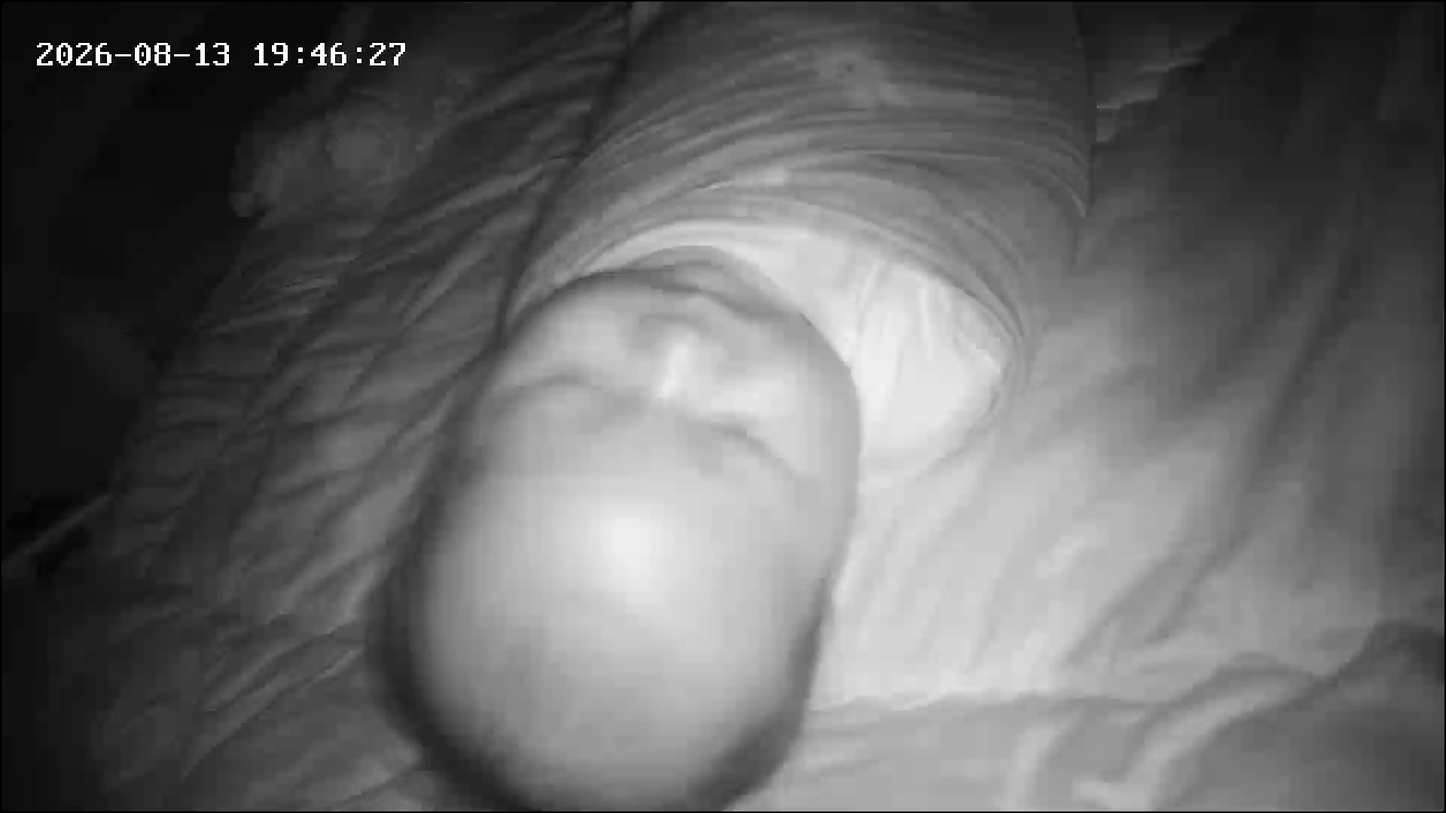baby: (333, 0, 1118, 807)
baby_face: (376, 266, 882, 808)
